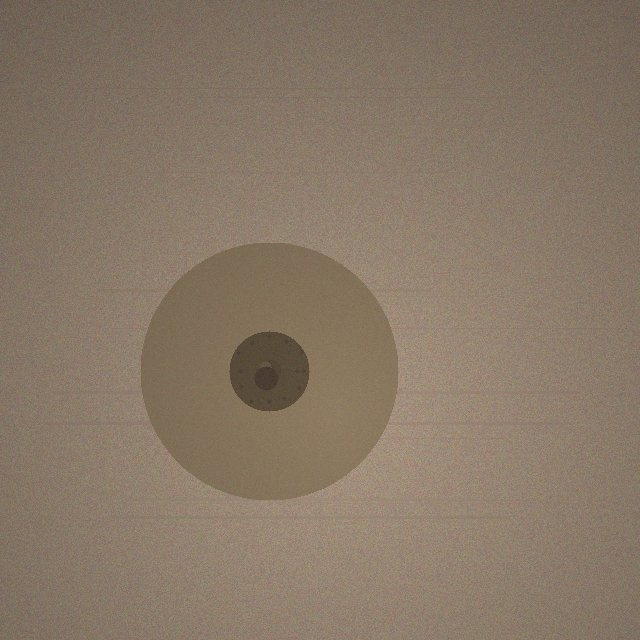cold_weld: (140, 242, 398, 500)
